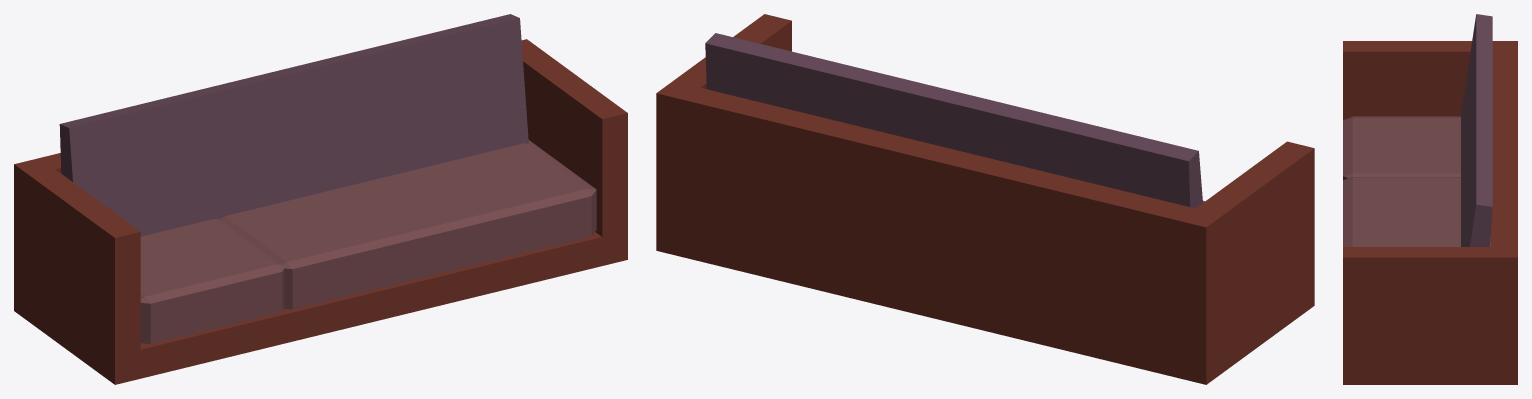
The model's file is LD46_Couch.fbx.
3 renders of one model, left to right at view 1: azimuth 30°, elevation 25°; view 2: azimuth 150°, elevation 25°; view 3: azimuth 270°, elevation 25°, orthographic. The views are drawn at different scales.
Visible parts, largest first — view 1: Backrest, Couch_frame, seat_wide, seat_small; view 2: Couch_frame, Backrest; view 3: Couch_frame, seat_wide, seat_small, Backrest.
Boxes of the visible parts, bbox=[...] form: Backrest: bbox=[59, 14, 528, 236]; Couch_frame: bbox=[14, 39, 627, 384]; seat_wide: bbox=[219, 140, 596, 309]; seat_small: bbox=[140, 219, 284, 343]; Couch_frame: bbox=[656, 14, 1314, 384]; Backrest: bbox=[705, 33, 1202, 208]; Couch_frame: bbox=[1343, 41, 1517, 384]; seat_wide: bbox=[1343, 177, 1490, 246]; seat_small: bbox=[1343, 116, 1460, 180]; Backrest: bbox=[1461, 14, 1492, 246].
Bounding box in the file's own units: 2.31 × 0.8309 × 0.7877.
